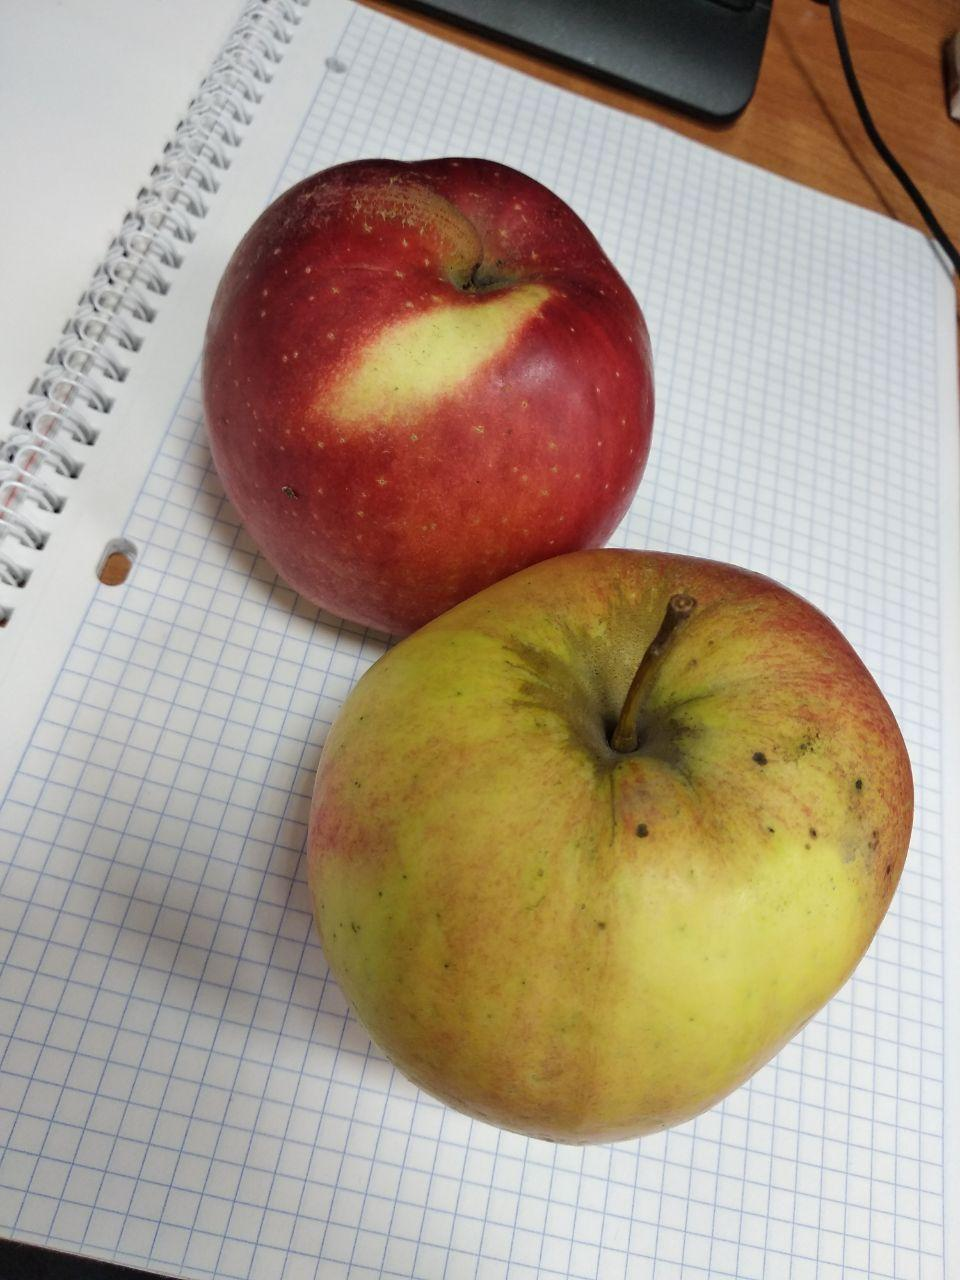Apple: (306, 545, 917, 1145), (205, 155, 653, 641)
